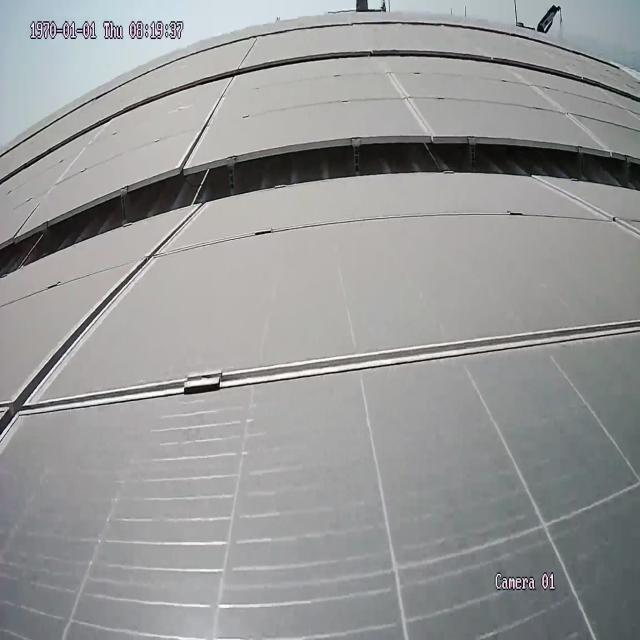interior panel: (0, 210, 637, 449), (515, 76, 613, 145), (178, 81, 237, 163), (547, 189, 640, 241), (384, 65, 437, 133)
outher panel: (0, 136, 638, 277)
